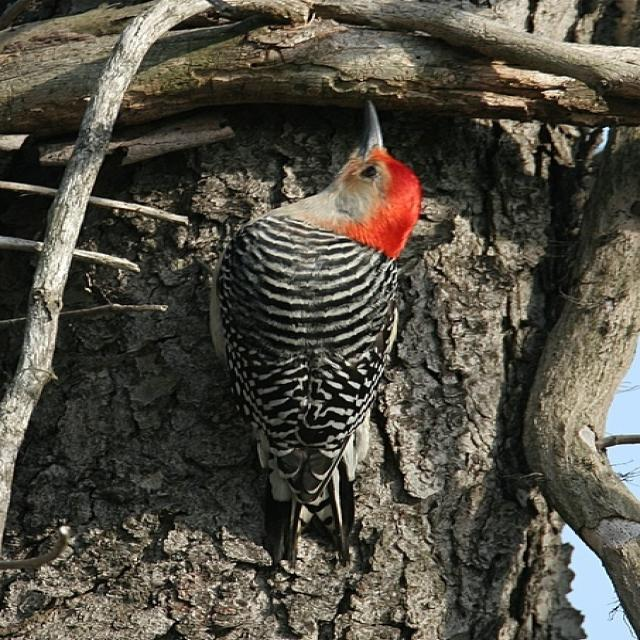bird: (207, 95, 423, 558)
